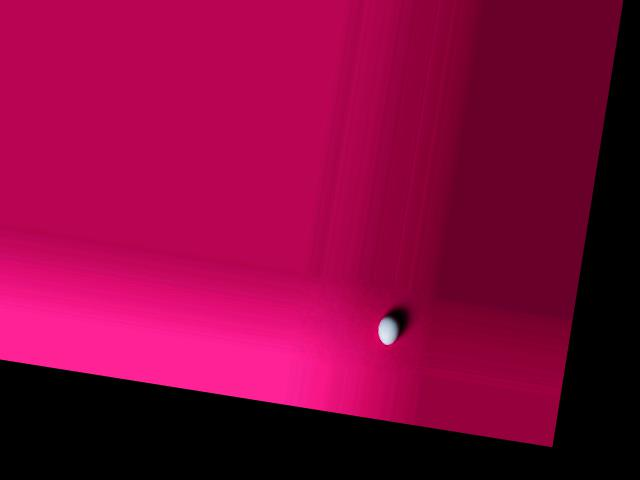egg: (375, 313, 401, 346)
